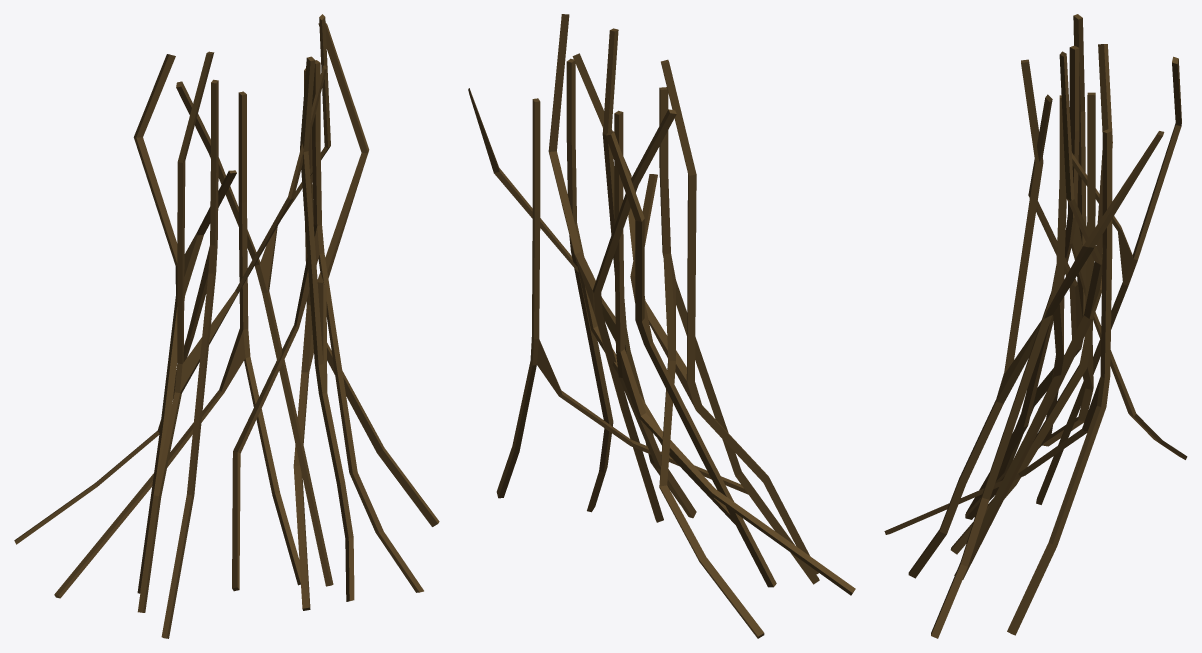
Rendered from stiicks.fbx.
3 renders of one model, left to right at view 1: azimuth 30°, elevation 25°; view 2: azimuth 150°, elevation 25°; view 3: azimuth 270°, elevation 25°, orthographic. The views are drawn at different scales.
Parts seen in each view (by area): view 1: Sticks; view 2: Sticks; view 3: Sticks.
Boxes of the visible parts, x1=… form: Sticks: x1=14, y1=14, x2=439, y2=638; Sticks: x1=468, y1=14, x2=855, y2=638; Sticks: x1=884, y1=14, x2=1187, y2=638.
Bounding box in the file's own units: 246 × 348 × 168.
